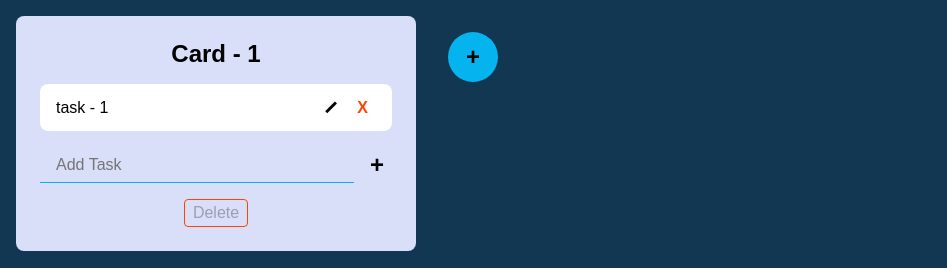
Scenario: disables/enables delete based on number of columns
Expected: the button "Delete" is disabled, [184,199,248,227]
Step 1. Click the button with test id "btn-add-column" → coordinates (473, 57), box [448,32,498,82]
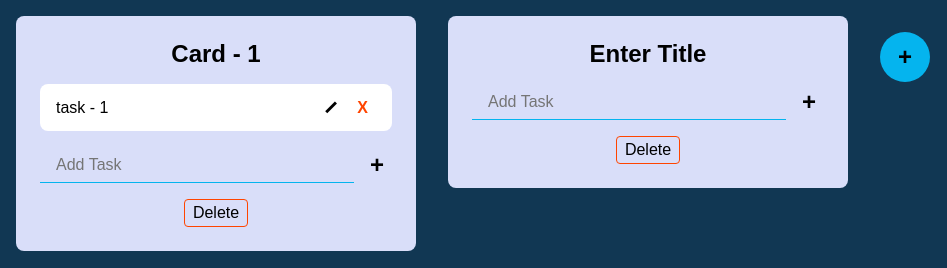
Result: the button "Delete" below "task - 1" is enabled
Result: the button "Delete" below "Enter Title" is enabled at [616,136,680,164]
Step 2. Click the button "Delete" below "task - 1" → coordinates (216, 213), box [184,199,248,227]
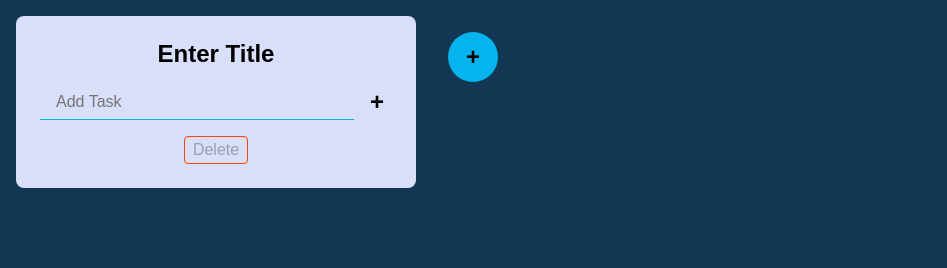
Result: the button "Delete" is disabled at [184,136,248,164]
